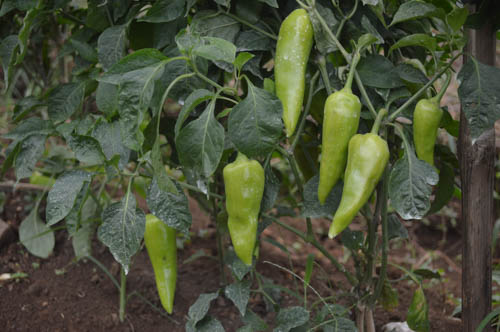ChiliPepper: (326, 132, 388, 242), (272, 10, 314, 138), (318, 94, 360, 206), (219, 161, 263, 266), (145, 216, 178, 315), (411, 98, 447, 171)
